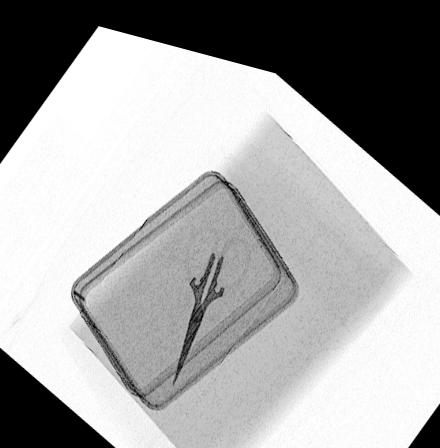Scissors: (167, 213, 255, 379)
